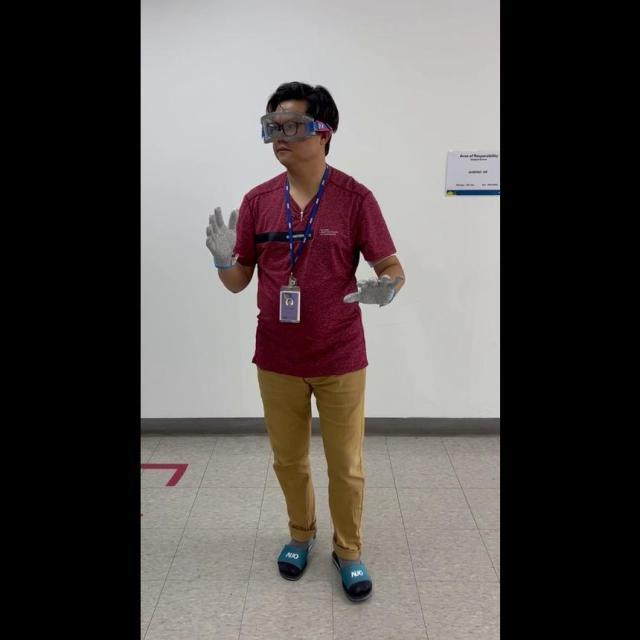gloved_hand: (342, 267, 403, 310), (203, 201, 240, 270)
